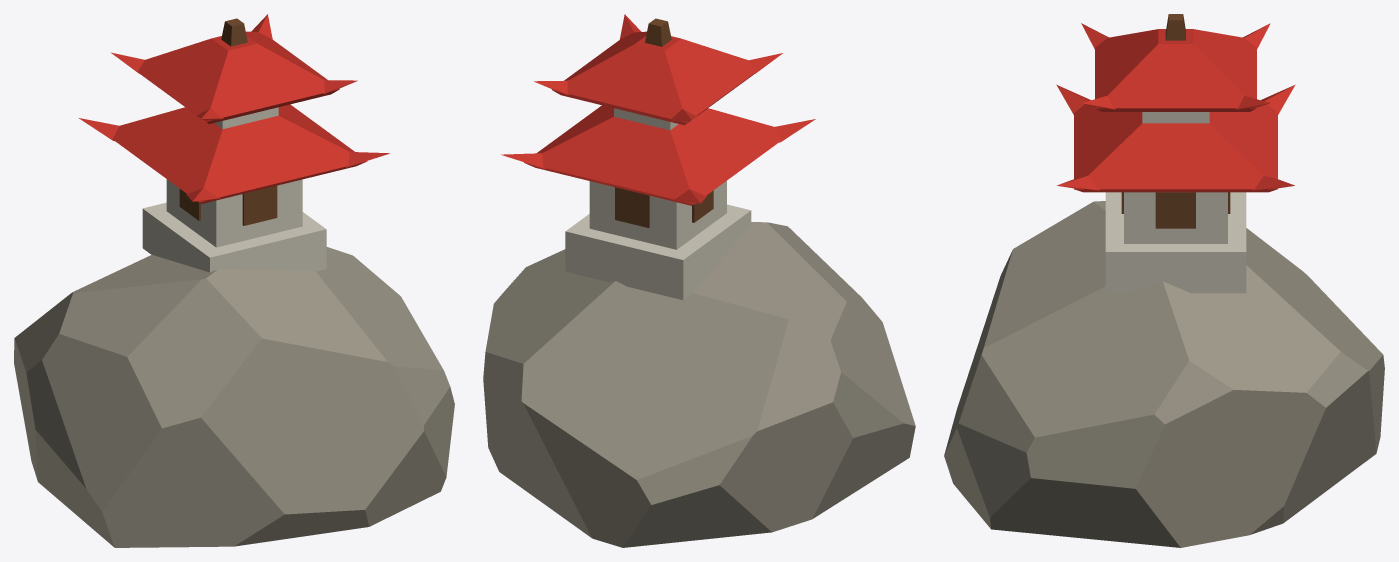
File: PagodaBoulder.fbx
3 renders of one model, left to right at view 1: azimuth 30°, elevation 25°; view 2: azimuth 150°, elevation 25°; view 3: azimuth 270°, elevation 25°, orthographic. The views are drawn at different scales.
Parts seen in each view (by area): view 1: PagodaBoulder, PagodaBoulder_Roofs, PagodaBoulder_Stone, PagodaBoulder_Window; view 2: PagodaBoulder, PagodaBoulder_Roofs, PagodaBoulder_Stone, PagodaBoulder_Window; view 3: PagodaBoulder, PagodaBoulder_Roofs, PagodaBoulder_Stone, PagodaBoulder_Window.
Boxes of the visible parts, x1,y1,x2,y2 form: PagodaBoulder: (14,247,454,547); PagodaBoulder_Roofs: (79,14,389,203); PagodaBoulder_Stone: (142,107,326,272); PagodaBoulder_Window: (179,18,277,225); PagodaBoulder: (483,222,915,547); PagodaBoulder_Roofs: (501,14,815,205); PagodaBoulder_Stone: (565,108,751,300); PagodaBoulder_Window: (615,18,713,227); PagodaBoulder: (944,201,1384,547); PagodaBoulder_Roofs: (1056,23,1295,192); PagodaBoulder_Stone: (1105,112,1246,293); PagodaBoulder_Window: (1121,14,1230,228).
Size of the model in its own units: 23.14 by 26.12 by 23.07.
